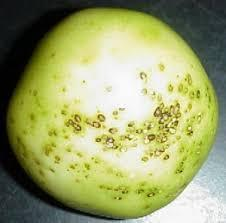tomato bacterial spot: (7, 8, 220, 222)
